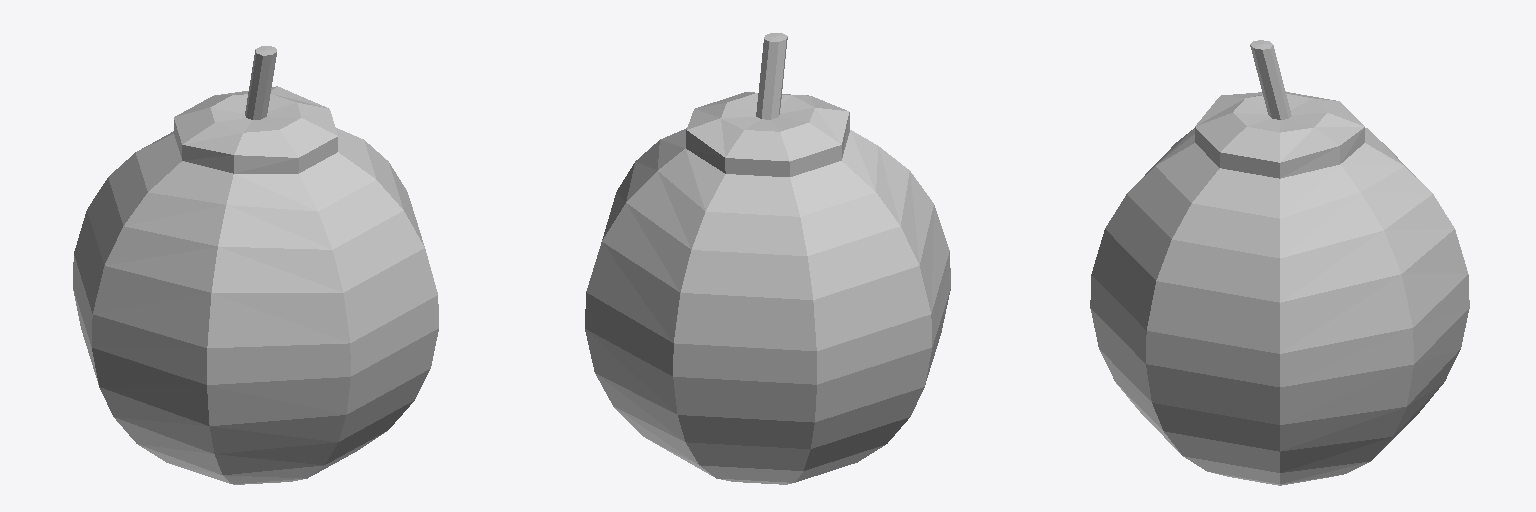
File: Bomb.obj
3 views of the same model, side by side, from view 1: azimuth 30°, elevation 25°; view 2: azimuth 150°, elevation 25°; view 3: azimuth 270°, elevation 25° (orthographic).
Visible parts, largest first — view 1: Cube.016; view 2: Cube.016; view 3: Cube.016.
Boxes of the visible parts, box(x1,y1,x2,y2) form: Cube.016: box(73, 46, 438, 484); Cube.016: box(585, 33, 950, 484); Cube.016: box(1090, 40, 1469, 485).
Bounding box in the file's own units: 0.3842 × 0.4745 × 0.3842.